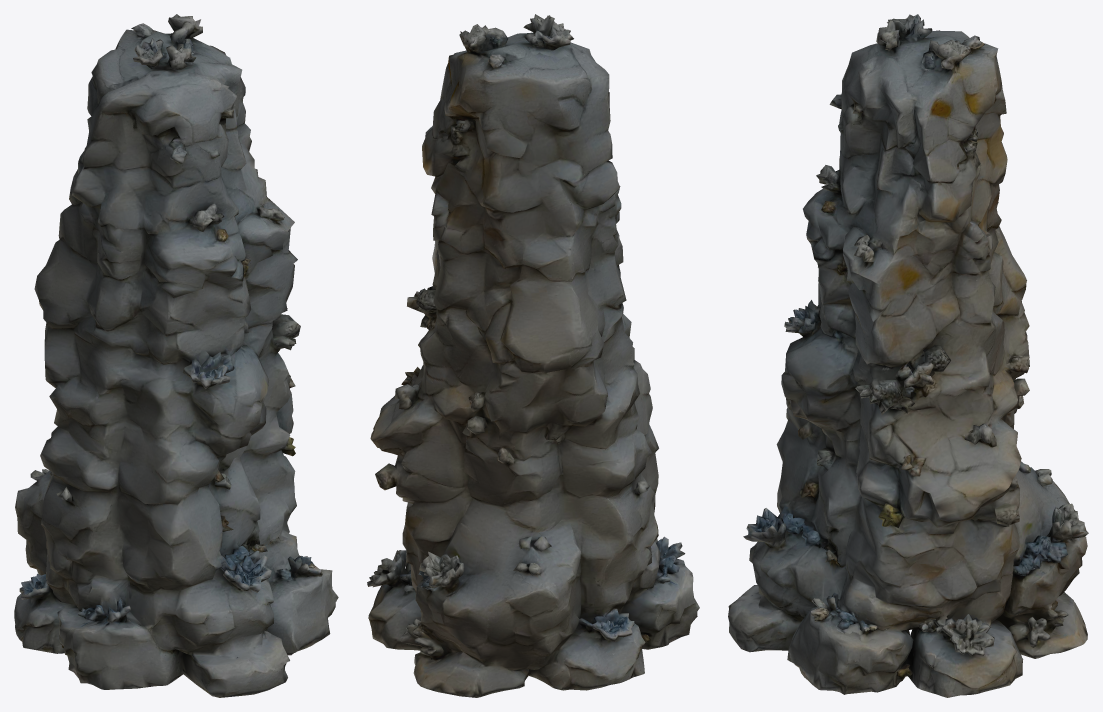
Rendered from spire.glb.
The picture shows the model from 3 angles, left to right: view 1: azimuth 30°, elevation 25°; view 2: azimuth 150°, elevation 25°; view 3: azimuth 270°, elevation 25°; orthographic projection. The views are drawn at different scales.
Visible parts, largest first — view 1: tripo_node_c5fa0bcd-88f4-4e69-b7fc-e8fd4eaa65fa; view 2: tripo_node_c5fa0bcd-88f4-4e69-b7fc-e8fd4eaa65fa; view 3: tripo_node_c5fa0bcd-88f4-4e69-b7fc-e8fd4eaa65fa.
Boxes of the visible parts, x1,y1,x2,y2 form: tripo_node_c5fa0bcd-88f4-4e69-b7fc-e8fd4eaa65fa: [14, 14, 338, 697]; tripo_node_c5fa0bcd-88f4-4e69-b7fc-e8fd4eaa65fa: [367, 14, 699, 697]; tripo_node_c5fa0bcd-88f4-4e69-b7fc-e8fd4eaa65fa: [728, 14, 1088, 697].
Size of the model in its own units: 0.4653 by 1 by 0.5377.
Materials: 1 (1 with a texture image).
